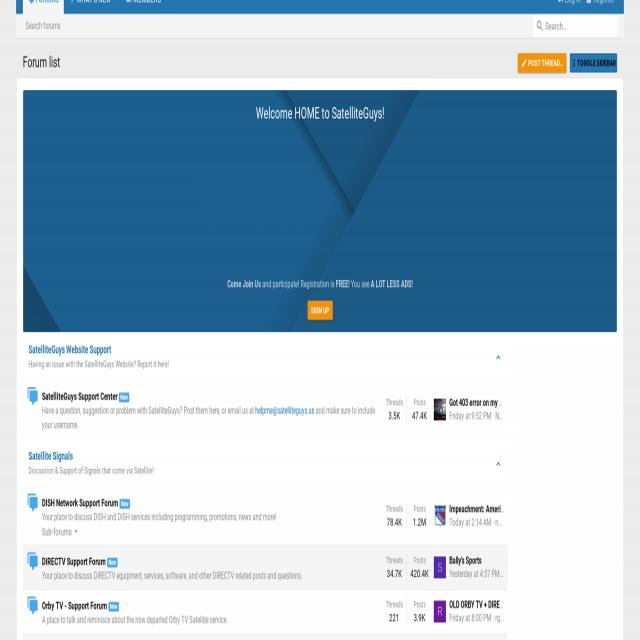button: (570, 51, 618, 73), (518, 53, 566, 73), (63, 0, 111, 14), (120, 0, 161, 14), (22, 0, 63, 14), (308, 300, 332, 320), (584, 0, 618, 12), (555, 0, 583, 12), (434, 505, 446, 527), (434, 399, 446, 420), (494, 350, 502, 365), (494, 457, 502, 471)
field: (534, 14, 617, 38)
